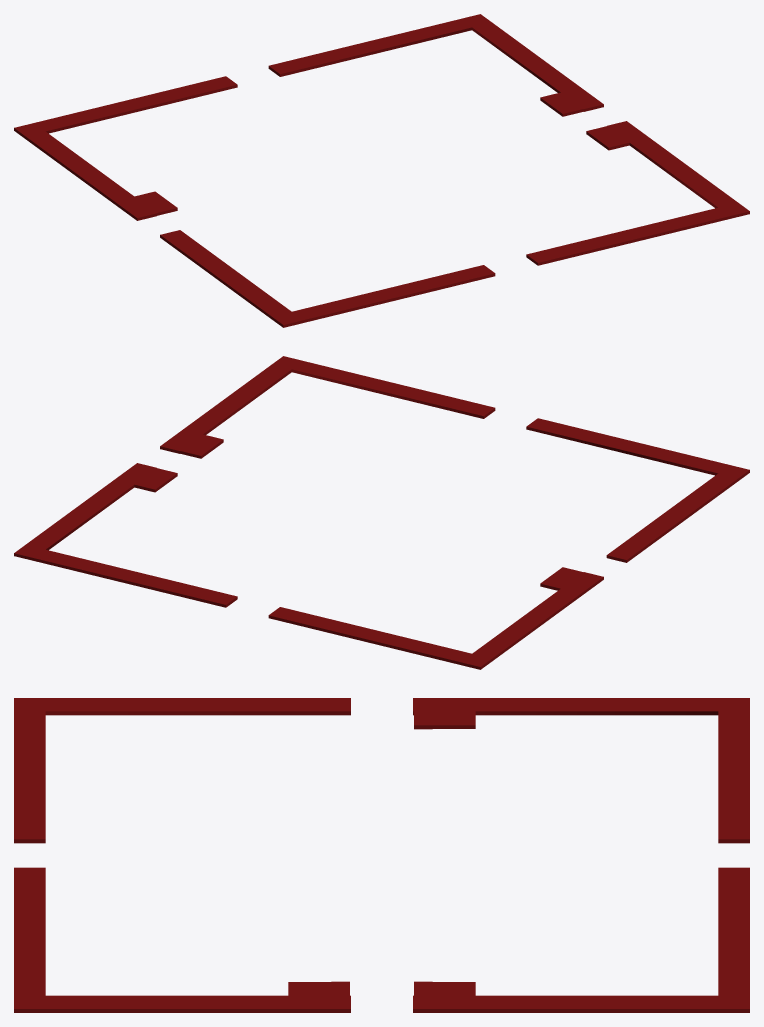
File: SM_Catwalk_Mid.fbx
3 views of the same model, one above another, from view 1: azimuth 30°, elevation 25°; view 2: azimuth 150°, elevation 25°; view 3: azimuth 270°, elevation 25° (orthographic). The views are drawn at different scales.
Visible parts, largest first — view 1: SM_Catwalk_Mid; view 2: SM_Catwalk_Mid; view 3: SM_Catwalk_Mid.
Boxes of the visible parts, x1,y1,x2,y2 form: SM_Catwalk_Mid: (14, 14, 749, 327); SM_Catwalk_Mid: (14, 356, 749, 669); SM_Catwalk_Mid: (14, 698, 749, 1012).
Size of the model in its own units: 134 by 0.7819 by 134.
